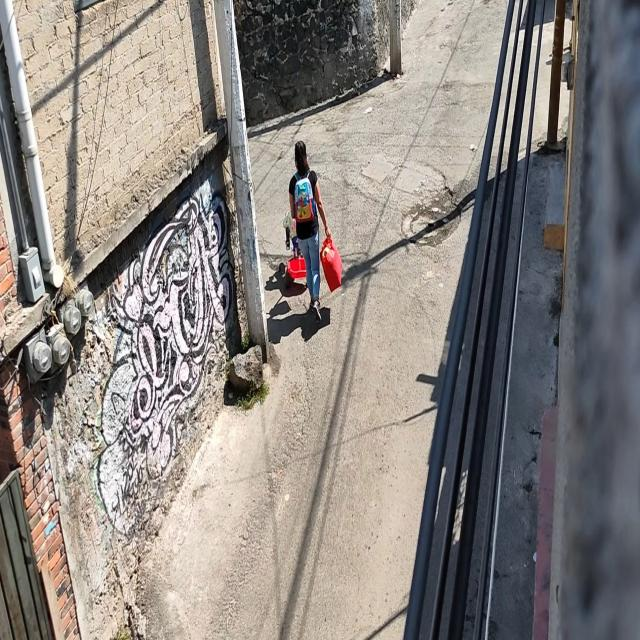adult: (287, 138, 330, 328)
